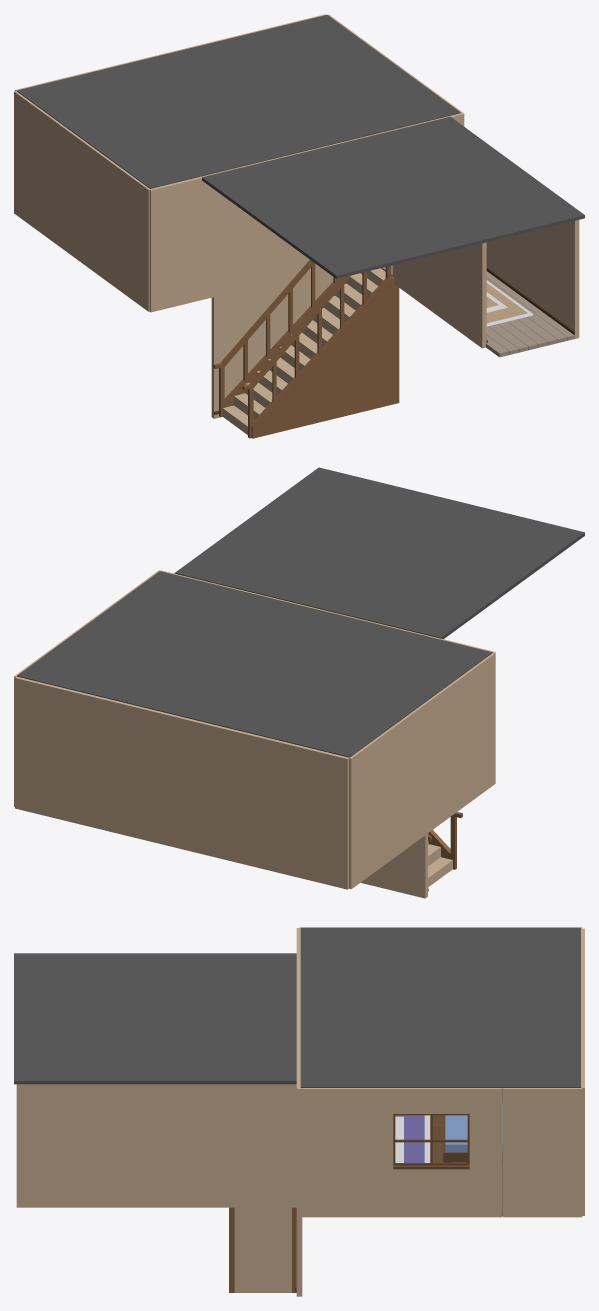
Rendered from level01.glb.
The picture shows the model from 3 angles, top to bottom: view 1: azimuth 30°, elevation 25°; view 2: azimuth 150°, elevation 25°; view 3: azimuth 270°, elevation 25°; orthographic projection. The views are drawn at different scales.
Parts seen in each view (by area): view 1: Cube, Cube_1, Stairs_01, WallFloor2_01__3_, WallFloor2_01__4_, WallFloor2_01_1, WallFloor2_01__2__1, WallFloor2_01__1__1, Floor_09__2_, StairsPart_01, StairsPart_01__1_, Catpet_04; view 2: Cube, WallFloor2_01__2_, Cube_1, WallFloor2_01__3_, WallFloor2_01__2__1, Stairs_01; view 3: Cube, Cube_1, WallFloor2_01_1, WallFloor2_02, WallFloor2_01__1_, WallFloor2_01, Stairs_01, Catpet_03, Bed1_02, WallFloor2_01__2_, WallFloor2_01__2__1, WallFloor2_04 (+1 smaller).
Part boxes in pixels (x1=…): Cube: x1=17, y1=14, x2=460, y2=188; Cube_1: x1=202, y1=116, x2=584, y2=278; Stairs_01: x1=222, y1=268, x2=399, y2=438; WallFloor2_01__3_: x1=14, y1=91, x2=149, y2=311; WallFloor2_01__4_: x1=148, y1=141, x2=345, y2=312; WallFloor2_01_1: x1=486, y1=220, x2=579, y2=338; WallFloor2_01__2__1: x1=211, y1=270, x2=333, y2=418; WallFloor2_01__1__1: x1=392, y1=242, x2=487, y2=348; Floor_09__2_: x1=486, y1=302, x2=574, y2=357; StairsPart_01: x1=242, y1=265, x2=391, y2=438; StairsPart_01__1_: x1=213, y1=260, x2=337, y2=417; Catpet_04: x1=486, y1=280, x2=533, y2=326; Cube: x1=17, y1=571, x2=492, y2=757; WallFloor2_01__2_: x1=15, y1=676, x2=348, y2=889; Cube_1: x1=174, y1=467, x2=584, y2=638; WallFloor2_01__3_: x1=347, y1=653, x2=495, y2=889; WallFloor2_01__2__1: x1=360, y1=833, x2=428, y2=898; Stairs_01: x1=428, y1=830, x2=452, y2=887; Cube: x1=300, y1=927, x2=580, y2=1090; Cube_1: x1=14, y1=953, x2=296, y2=1084; WallFloor2_01_1: x1=16, y1=1077, x2=298, y2=1207; WallFloor2_02: x1=360, y1=1088, x2=501, y2=1217; WallFloor2_01__1_: x1=502, y1=1087, x2=582, y2=1217; WallFloor2_01: x1=297, y1=1088, x2=363, y2=1217; Stairs_01: x1=229, y1=1207, x2=296, y2=1292; Catpet_03: x1=395, y1=1115, x2=430, y2=1162; Bed1_02: x1=443, y1=1103, x2=502, y2=1162; WallFloor2_01__2_: x1=581, y1=928, x2=584, y2=1215; WallFloor2_01__2__1: x1=295, y1=1216, x2=302, y2=1296; WallFloor2_04: x1=296, y1=1028, x2=301, y2=1216.
Size of the model in its own units: 10.19 by 7.53 by 15.14.
Materials: 2 (1 with a texture image).
